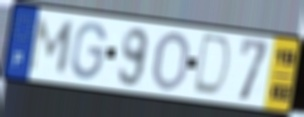7: (238, 36, 270, 105)
9: (116, 26, 151, 88)
D: (190, 32, 233, 100)
G: (69, 20, 108, 82)
M: (26, 15, 78, 76)
O: (150, 29, 192, 93)
